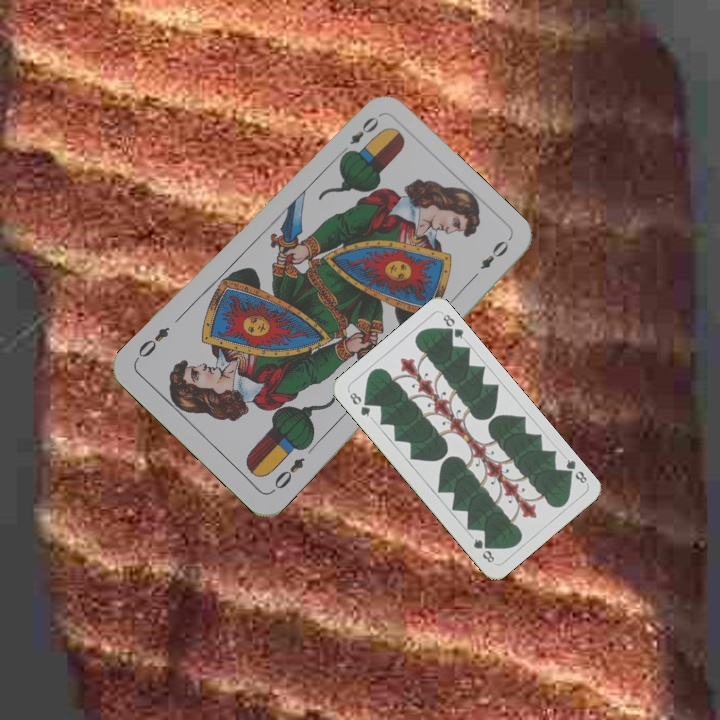EO: (336, 112, 381, 159), (268, 453, 308, 495)
G8: (559, 455, 590, 486), (345, 388, 373, 420)
